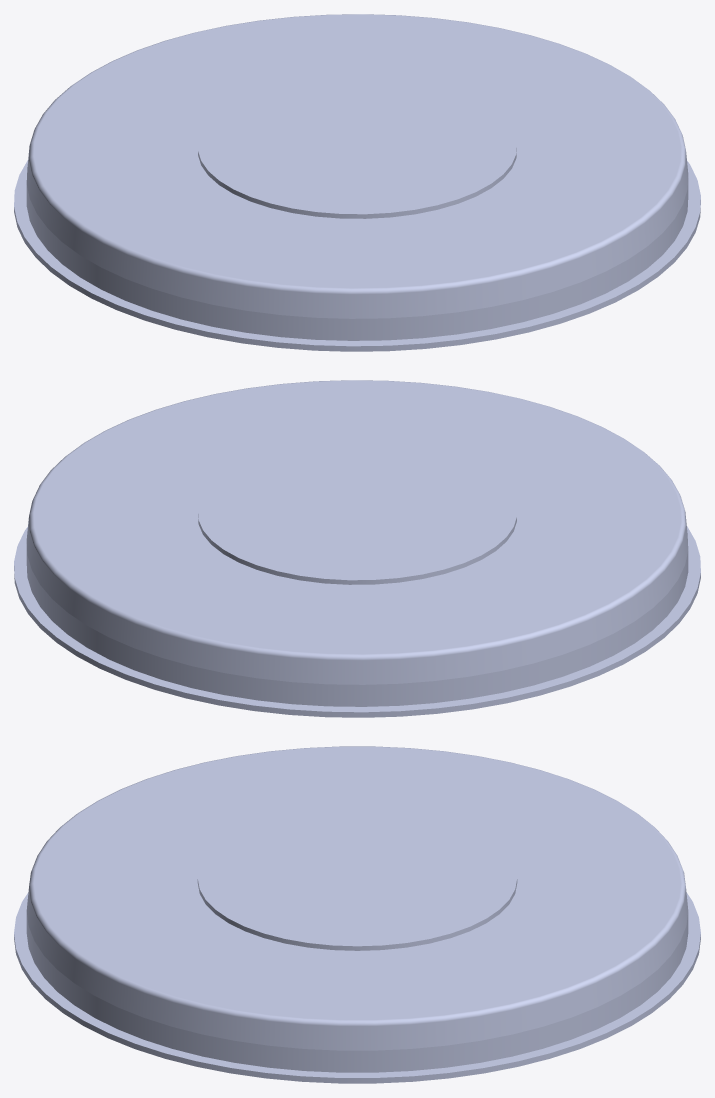
File: 130_tapa_termo.glb
The picture shows the model from 3 angles, top to bottom: view 1: azimuth 30°, elevation 25°; view 2: azimuth 150°, elevation 25°; view 3: azimuth 270°, elevation 25°; orthographic projection.
Visible parts, largest first — view 1: TAPA TERMO 130; view 2: TAPA TERMO 130; view 3: TAPA TERMO 130.
Part boxes in pixels (box(x1,y1,x2,y2)): TAPA TERMO 130: box(14, 14, 700, 351); TAPA TERMO 130: box(14, 380, 700, 717); TAPA TERMO 130: box(14, 746, 700, 1083).
Bounding box in the file's own units: 0.1353 × 0.013 × 0.1355.
